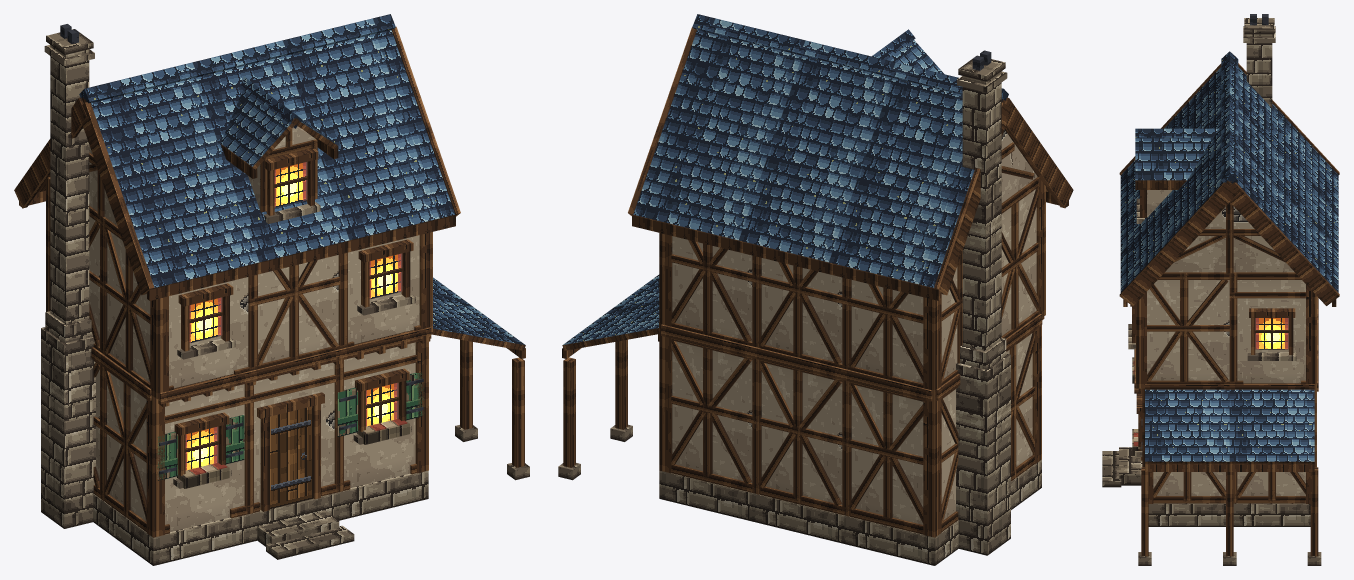
The model's file is MV_House_B.glb.
3 renders of one model, left to right at view 1: azimuth 30°, elevation 25°; view 2: azimuth 150°, elevation 25°; view 3: azimuth 270°, elevation 25°, orthographic. The views are drawn at different scales.
Visible parts, largest first — view 1: MV_Chimney_Stone_B.MV_House_B, MV_Roof_Gable_2m_A.MV_House_B, MV_Roof_Gable_2m_A.MV_House_B.002, MV_Roof_Gable_2m_A.MV_House_B.001, MV_Wall_Timber_2m_A.MV_House_B.007, MV_Roof_GableEnd_A.MV_House_B, MV_Door_Wood_A.MV_House_B, MV_Wall_Timber_2m_A.MV_House_B.006, MV_Dormer_Slate_A.MV_House_B, MV_Wall_Timber_2m_A.MV_House_B.013, MV_Wall_Timber_2m_B.MV_House_B.002, MV_Wall_Timber_2m_B.MV_House_B (+31 smaller); view 2: MV_Chimney_Stone_B.MV_House_B, MV_Roof_Gable_2m_A.MV_House_B.002, MV_Roof_Gable_2m_A.MV_House_B.001, MV_Roof_Gable_2m_A.MV_House_B, MV_Wall_Timber_2m_A.MV_House_B.003, MV_Wall_Timber_2m_A.MV_House_B.004, MV_Wall_Timber_2m_A.MV_House_B.002, MV_Wall_Timber_2m_A.MV_House_B.010, MV_Wall_Timber_2m_A.MV_House_B.011, MV_Wall_Timber_2m_A.MV_House_B.009, MV_Roof_GableEnd_A.MV_House_B, MV_Wall_Timber_2m_A.MV_House_B.013 (+23 smaller); view 3: MV_Wall_Timber_2m_A.MV_House_B.008, MV_Roof_Gable_2m_A.MV_House_B.002, MV_Roof_LeanToSlate_2m_A.MV_House_B.001, MV_Roof_LeanToSlate_2m_A.MV_House_B, MV_Roof_GableEnd_A.MV_House_B.001, MV_Wall_Timber_2m_B.MV_House_B.005, MV_Roof_Gable_2m_A.MV_House_B, MV_Roof_Gable_2m_A.MV_House_B.001, MV_Wall_Gable_4m_A.MV_House_B.001, MV_Dormer_Slate_A.MV_House_B, MV_Wall_Timber_2m_A.MV_House_B, MV_Wall_Timber_2m_A.MV_House_B.001 (+16 smaller).
Boxes of the visible parts, x1,y1,x2,y2 form: MV_Chimney_Stone_B.MV_House_B: (41, 24, 95, 528); MV_Roof_Gable_2m_A.MV_House_B: (39, 62, 259, 296); MV_Roof_Gable_2m_A.MV_House_B.002: (282, 18, 439, 252); MV_Roof_Gable_2m_A.MV_House_B.001: (192, 40, 349, 274); MV_Wall_Timber_2m_A.MV_House_B.007: (248, 255, 339, 370); MV_Roof_GableEnd_A.MV_House_B: (14, 84, 169, 300); MV_Door_Wood_A.MV_House_B: (257, 392, 324, 511); MV_Wall_Timber_2m_A.MV_House_B.006: (100, 364, 165, 532); MV_Dormer_Slate_A.MV_House_B: (220, 76, 338, 212); MV_Wall_Timber_2m_A.MV_House_B.013: (100, 215, 169, 387); MV_Wall_Timber_2m_B.MV_House_B.002: (334, 343, 416, 492); MV_Wall_Timber_2m_B.MV_House_B: (165, 384, 245, 534); MV_Chimney_Stone_B.MV_House_B: (956, 50, 1010, 555); MV_Roof_Gable_2m_A.MV_House_B.002: (648, 18, 805, 252); MV_Roof_Gable_2m_A.MV_House_B.001: (738, 40, 895, 274); MV_Roof_Gable_2m_A.MV_House_B: (829, 62, 1048, 296); MV_Wall_Timber_2m_A.MV_House_B.003: (752, 358, 842, 514); MV_Wall_Timber_2m_A.MV_House_B.004: (842, 380, 923, 534); MV_Wall_Timber_2m_A.MV_House_B.002: (671, 338, 752, 492); MV_Wall_Timber_2m_A.MV_House_B.010: (752, 255, 842, 367); MV_Wall_Timber_2m_A.MV_House_B.011: (842, 277, 923, 387); MV_Wall_Timber_2m_A.MV_House_B.009: (671, 236, 752, 345); MV_Roof_GableEnd_A.MV_House_B: (919, 88, 1073, 300); MV_Wall_Timber_2m_A.MV_House_B.013: (1001, 177, 1039, 338); MV_Wall_Timber_2m_A.MV_House_B.008: (1147, 272, 1229, 384); MV_Roof_Gable_2m_A.MV_House_B.002: (1120, 130, 1338, 288); MV_Roof_LeanToSlate_2m_A.MV_House_B.001: (1229, 389, 1314, 471); MV_Roof_LeanToSlate_2m_A.MV_House_B: (1145, 389, 1229, 471); MV_Roof_GableEnd_A.MV_House_B.001: (1119, 166, 1339, 306); MV_Wall_Timber_2m_B.MV_House_B.005: (1229, 272, 1305, 384); MV_Roof_Gable_2m_A.MV_House_B: (1120, 58, 1338, 216); MV_Roof_Gable_2m_A.MV_House_B.001: (1120, 94, 1338, 252); MV_Wall_Gable_4m_A.MV_House_B.001: (1165, 202, 1294, 273); MV_Dormer_Slate_A.MV_House_B: (1135, 128, 1218, 217); MV_Wall_Timber_2m_A.MV_House_B: (1153, 472, 1225, 503); MV_Wall_Timber_2m_A.MV_House_B.001: (1233, 472, 1305, 503).
Size of the model in its own units: 8.95 by 10.34 by 5.61.
10 materials, 10 textured.
